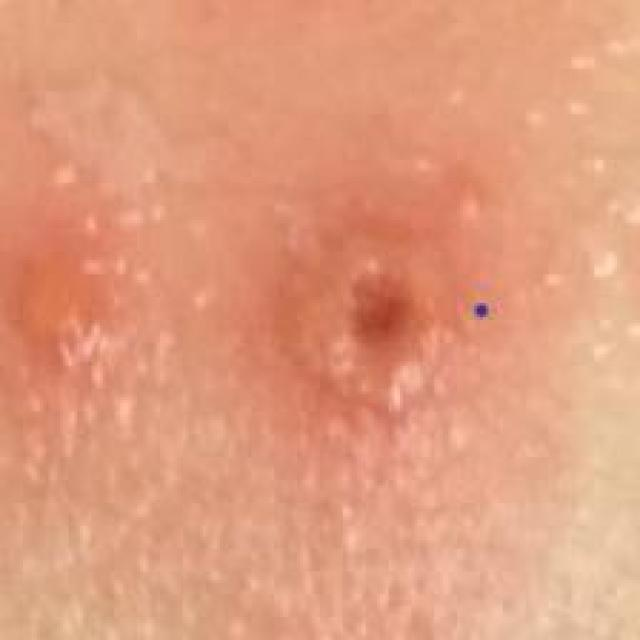others: (220, 185, 538, 557)
